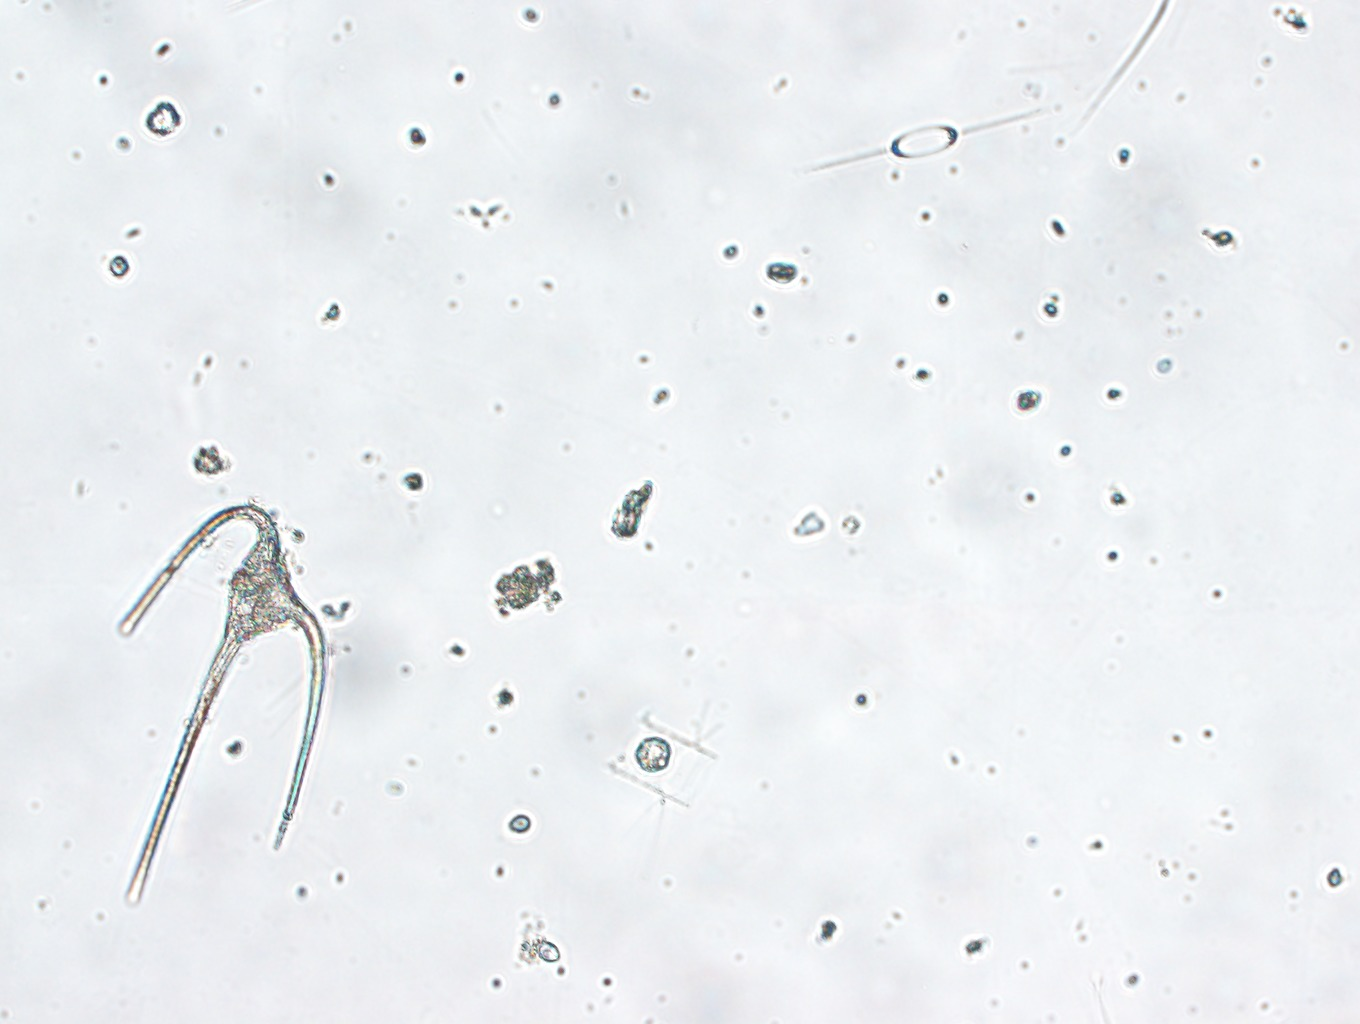ceratium trichoceros: (100, 490, 329, 905)
chaetoceros: (602, 674, 728, 850), (796, 95, 1055, 180)
